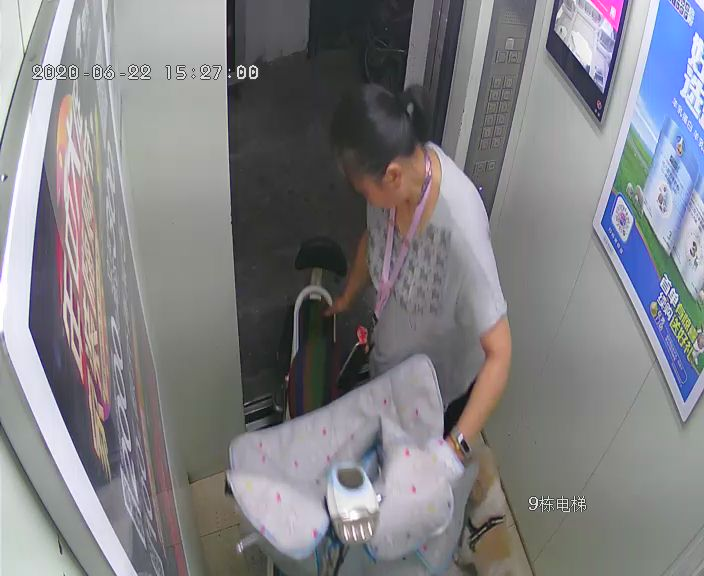Electric-bicycle: (239, 234, 493, 573)
